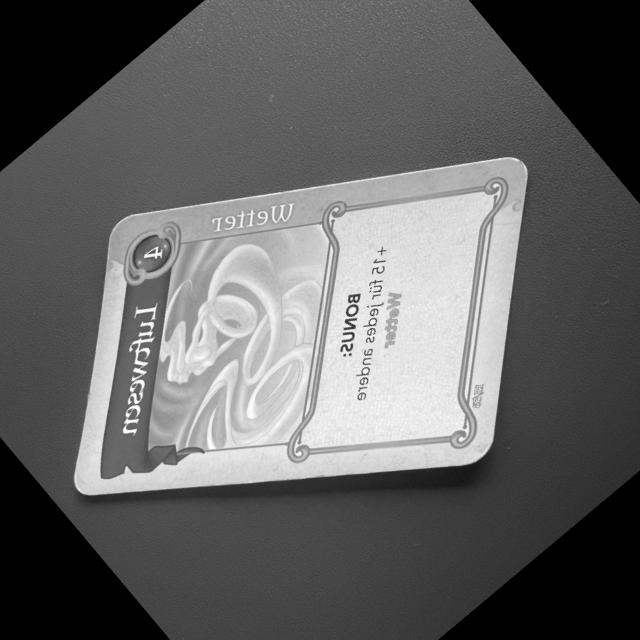Air Elemental: (70, 155, 532, 501)
